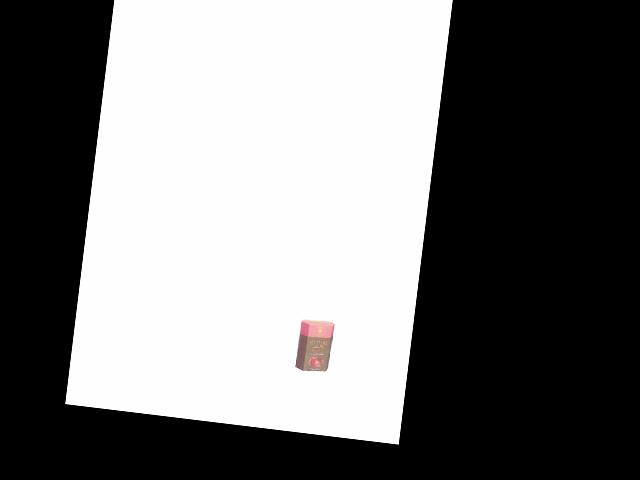chocolate: (293, 316, 335, 378)
